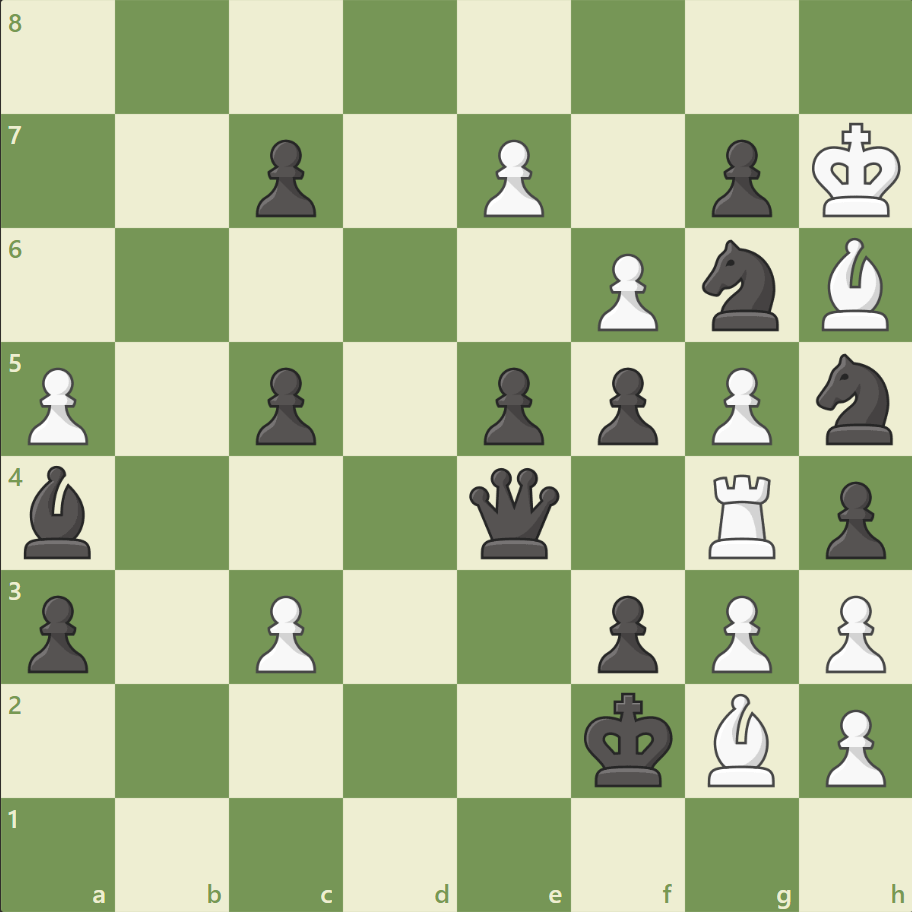B: (812, 233, 896, 336), (698, 687, 782, 790)
K: (806, 117, 906, 225)
P: (474, 132, 549, 223), (20, 359, 95, 450), (701, 359, 776, 450), (247, 586, 322, 677), (701, 586, 776, 677), (588, 246, 662, 337), (815, 586, 889, 677), (815, 700, 889, 791)
R: (700, 466, 783, 563)
b: (17, 460, 101, 563)
k: (579, 685, 679, 793)
n: (692, 234, 789, 337), (806, 348, 903, 450)
p: (247, 132, 322, 223), (701, 132, 776, 223), (247, 359, 322, 450), (474, 359, 549, 450), (20, 586, 95, 677), (588, 359, 662, 450), (815, 473, 889, 564), (588, 586, 662, 677)
q: (464, 463, 563, 562)
